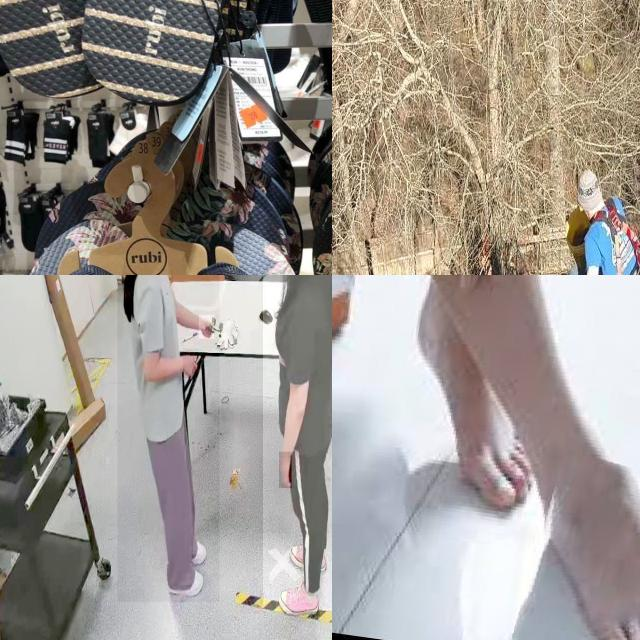Barefoots: (540, 470, 640, 640)
Harness: (594, 198, 640, 275)
Sandals: (0, 191, 332, 275)
hand_noglove: (279, 452, 292, 489), (183, 348, 199, 378), (199, 314, 215, 340)
person: (117, 275, 220, 603), (263, 275, 332, 612)
shoes: (276, 580, 320, 622), (288, 540, 330, 575)
